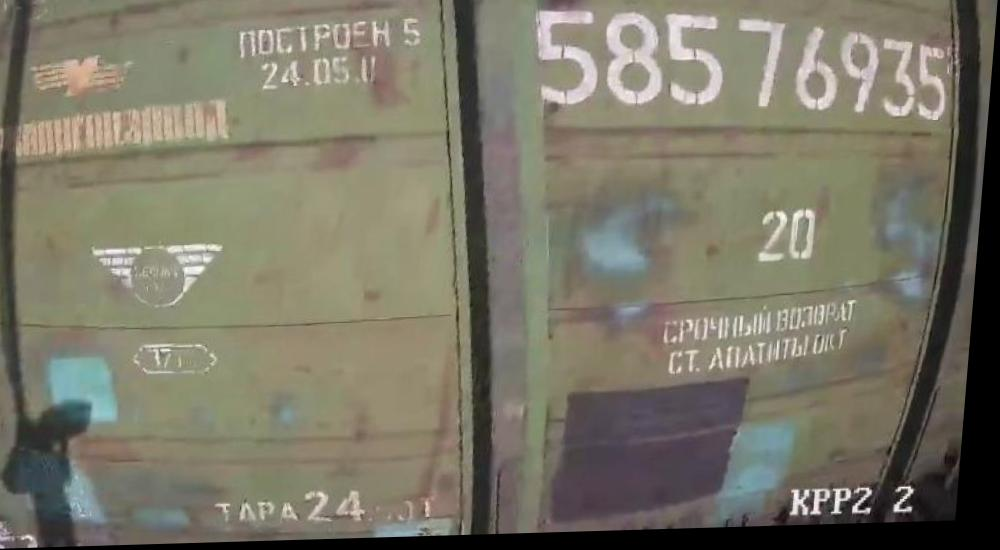Wagon-number: (523, 0, 962, 143)
